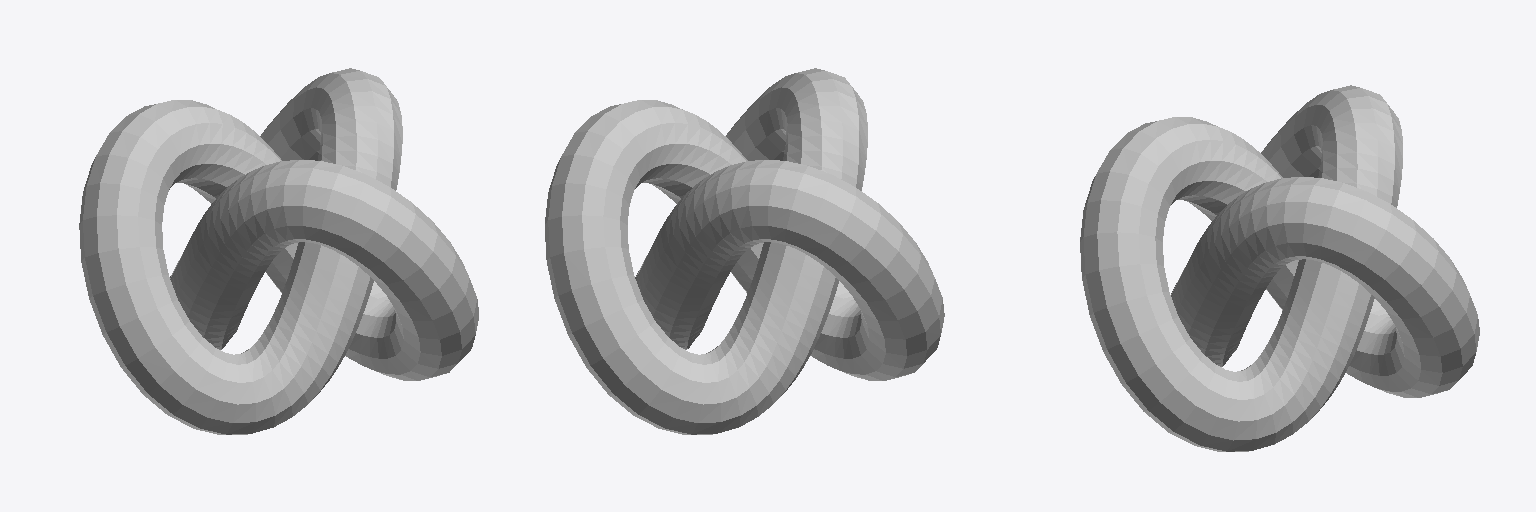
Rendered from knot.obj.
The picture shows the model from 3 angles: view 1: azimuth 30°, elevation 25°; view 2: azimuth 150°, elevation 25°; view 3: azimuth 270°, elevation 25°; orthographic projection.
Visible parts, largest first — view 1: Torus_Knot001; view 2: Torus_Knot001; view 3: Torus_Knot001.
Part boxes in pixels (x1,y1,x2,y2): Torus_Knot001: (79,68,478,434); Torus_Knot001: (545,68,944,434); Torus_Knot001: (1080,85,1479,451).
Size of the model in its own units: 1.81 by 1.41 by 1.92.